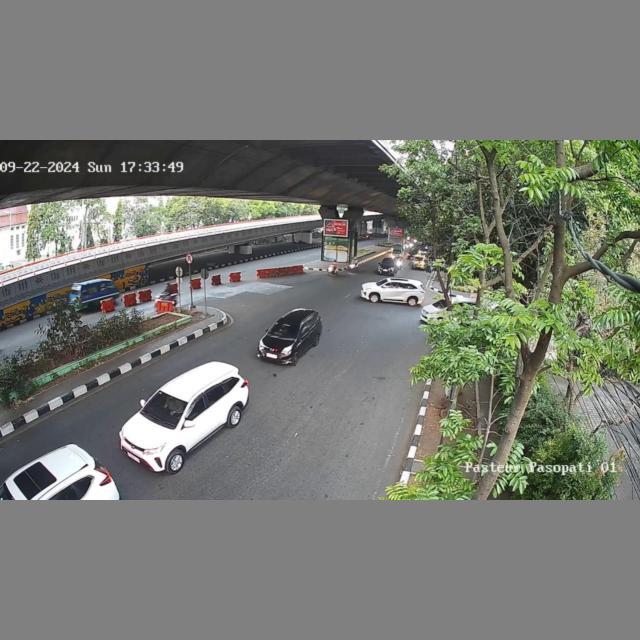windshield: (142, 389, 189, 428), (267, 319, 300, 340)
